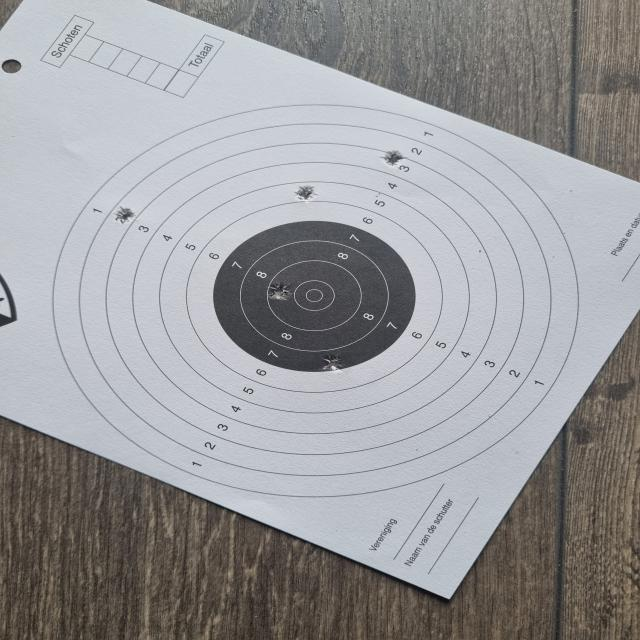10: (267, 284, 294, 301)
4: (380, 150, 408, 166), (114, 206, 138, 224)
7: (294, 185, 318, 202)
8: (320, 356, 344, 372)
Black Contour: (214, 220, 416, 372)
Target: (54, 102, 580, 497)
